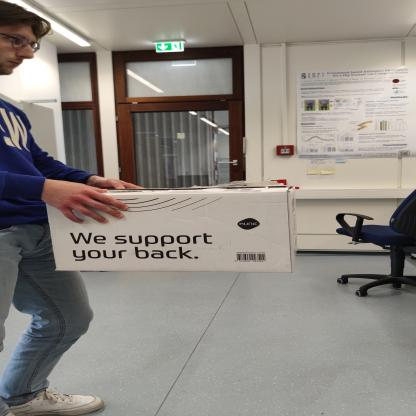box: (39, 162, 301, 288)
